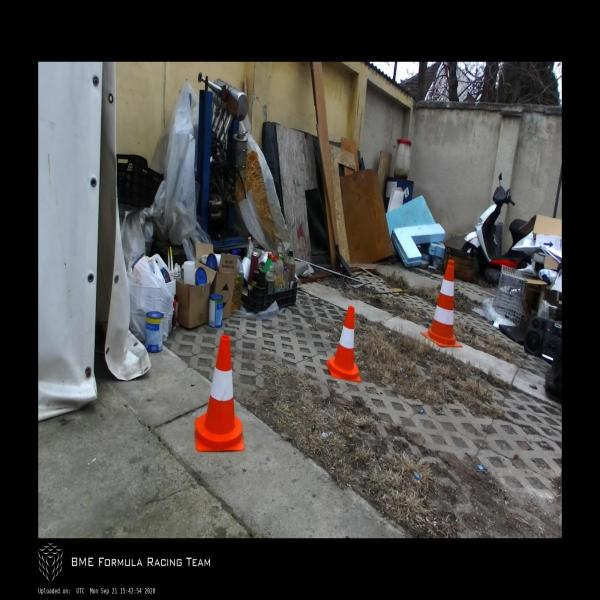large_orange_cone: (420, 260, 462, 348)
orange_cone: (194, 336, 245, 454), (326, 306, 361, 382)
